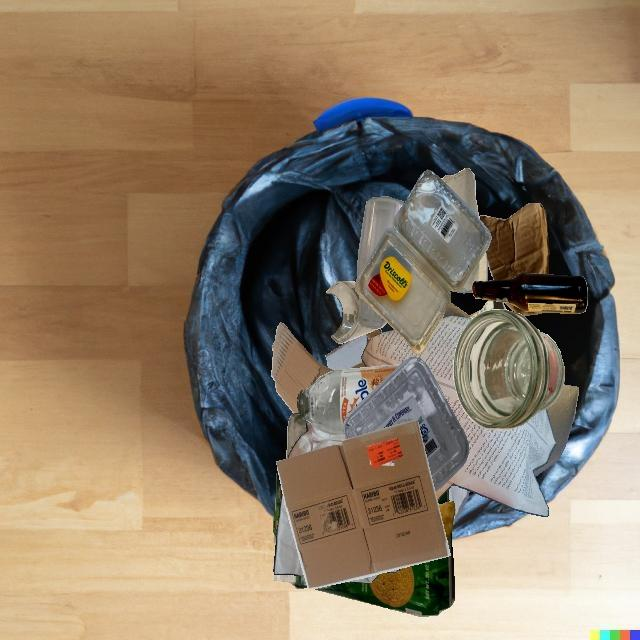biowaste: (438, 501, 455, 542)
cardboard: (276, 420, 451, 589), (273, 468, 438, 570), (346, 533, 455, 606), (271, 322, 334, 414), (479, 203, 549, 280), (533, 384, 579, 477), (455, 196, 487, 292), (326, 328, 382, 371), (441, 168, 475, 211), (442, 300, 506, 319), (448, 485, 470, 524)
glass: (453, 309, 565, 430), (297, 364, 400, 434), (472, 273, 588, 314), (357, 197, 404, 278), (326, 281, 387, 343), (286, 412, 310, 459), (358, 296, 385, 329)
paper: (361, 316, 556, 517), (286, 434, 392, 580)
plastic: (355, 169, 492, 354), (344, 357, 469, 492)
